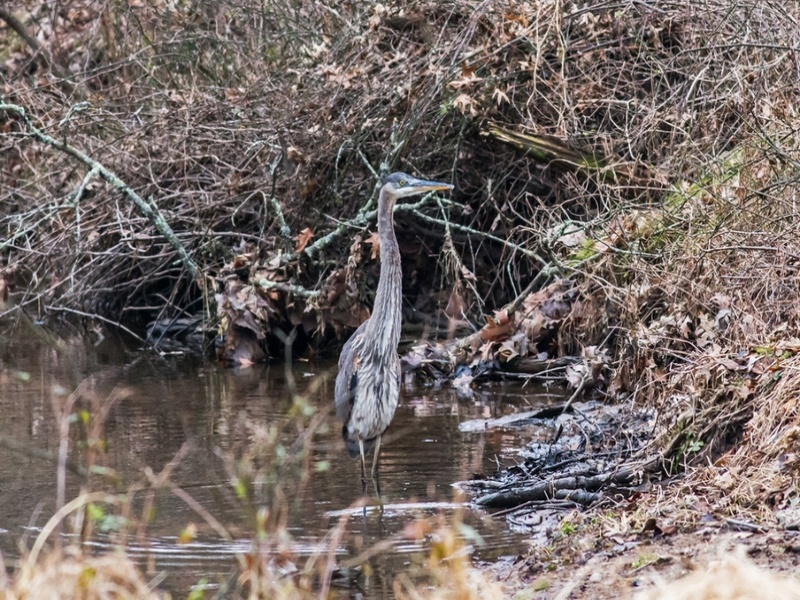heron: (331, 168, 456, 456)
